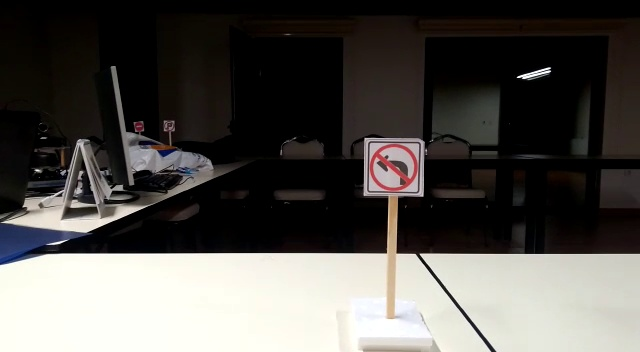sola_donulmez: (366, 143, 421, 192)
